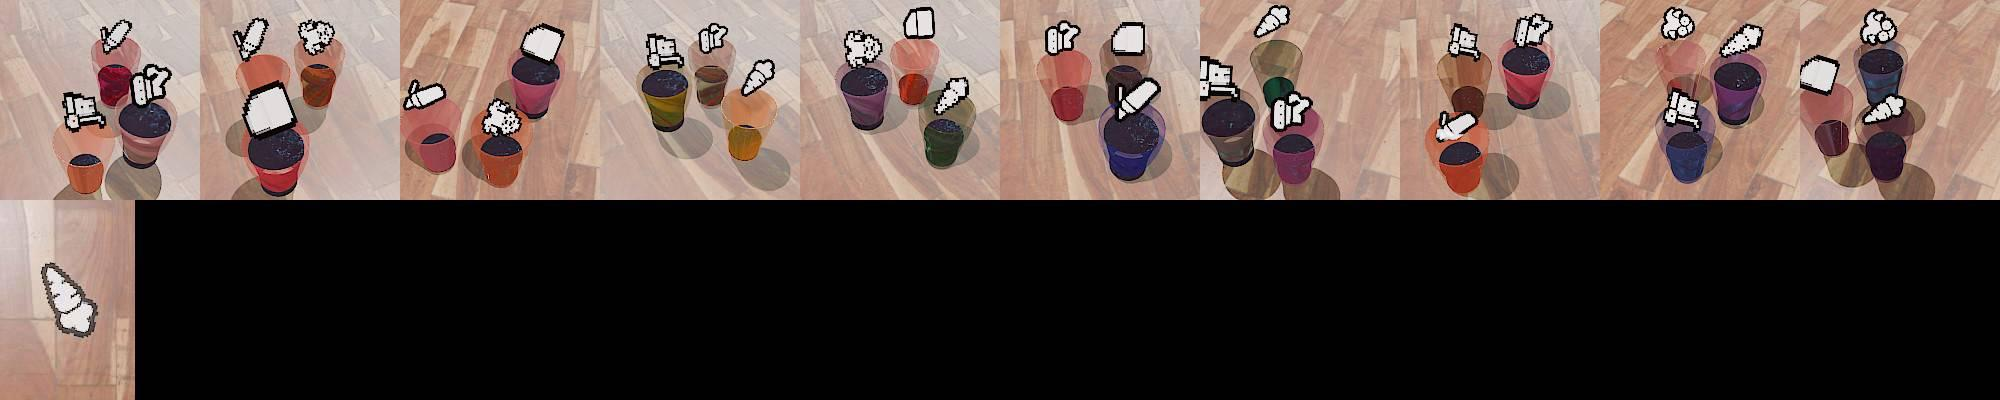icon: (40, 262, 98, 340), (240, 80, 299, 138), (1662, 85, 1705, 135), (521, 23, 570, 66), (128, 63, 171, 110), (480, 96, 524, 141), (1115, 76, 1161, 119), (62, 90, 107, 132), (1269, 90, 1315, 130), (1199, 55, 1237, 100), (1798, 55, 1841, 94), (233, 17, 271, 61), (1718, 23, 1764, 59), (931, 76, 971, 117), (296, 18, 336, 58), (739, 57, 776, 98), (1513, 13, 1555, 49), (1435, 107, 1479, 141), (403, 78, 448, 111), (1859, 9, 1898, 46), (646, 32, 684, 69), (1109, 21, 1147, 56), (844, 30, 882, 65), (1861, 94, 1906, 123), (1253, 4, 1290, 39), (1046, 19, 1081, 55), (1448, 22, 1482, 59), (1659, 6, 1694, 41), (100, 19, 133, 54), (903, 6, 935, 41), (698, 22, 729, 55)
